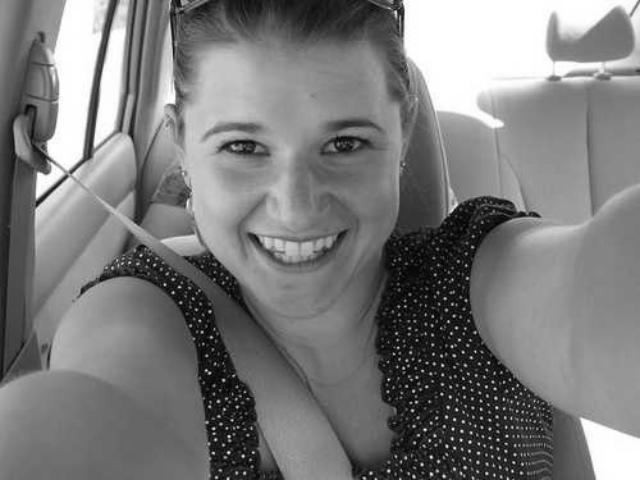SafeDriving: (308, 115, 388, 165), (204, 122, 282, 168)
Seatbelt: (11, 53, 361, 480)
